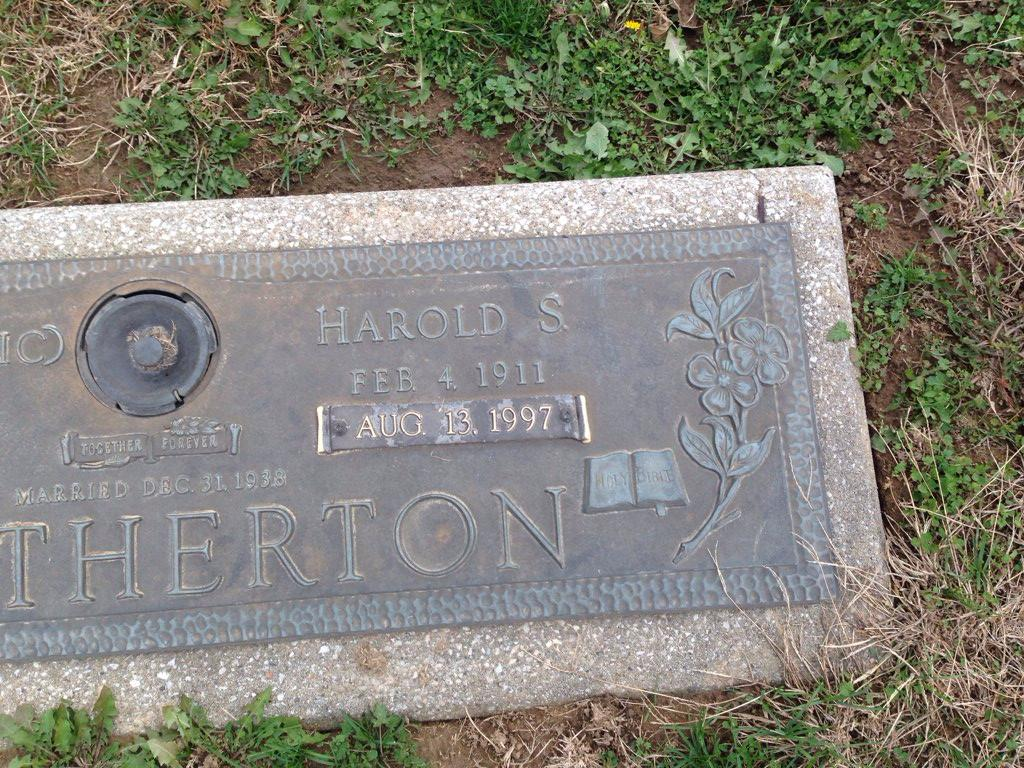flat: (0, 161, 942, 689)
